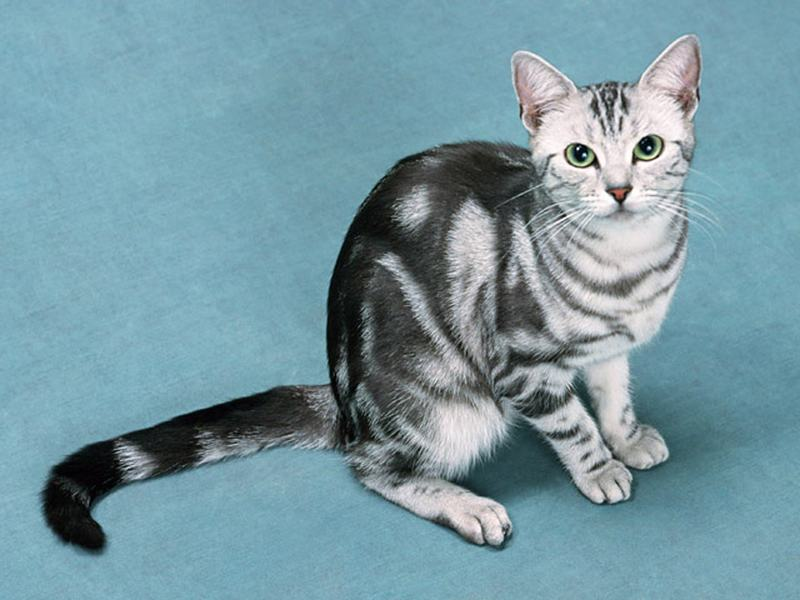cat: (483, 24, 719, 269)
